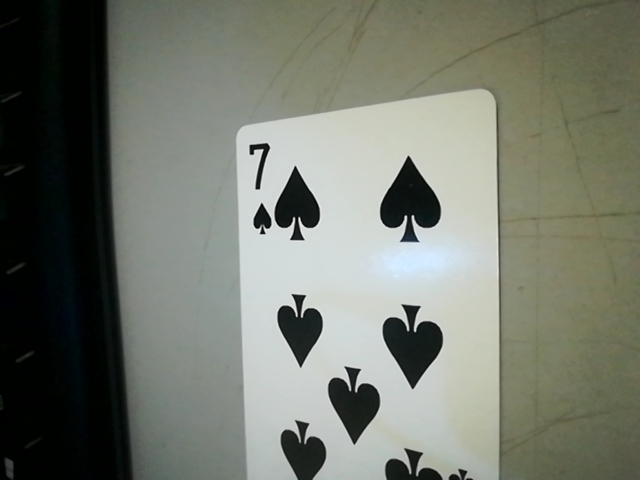ht 7: (233, 127, 278, 241)
